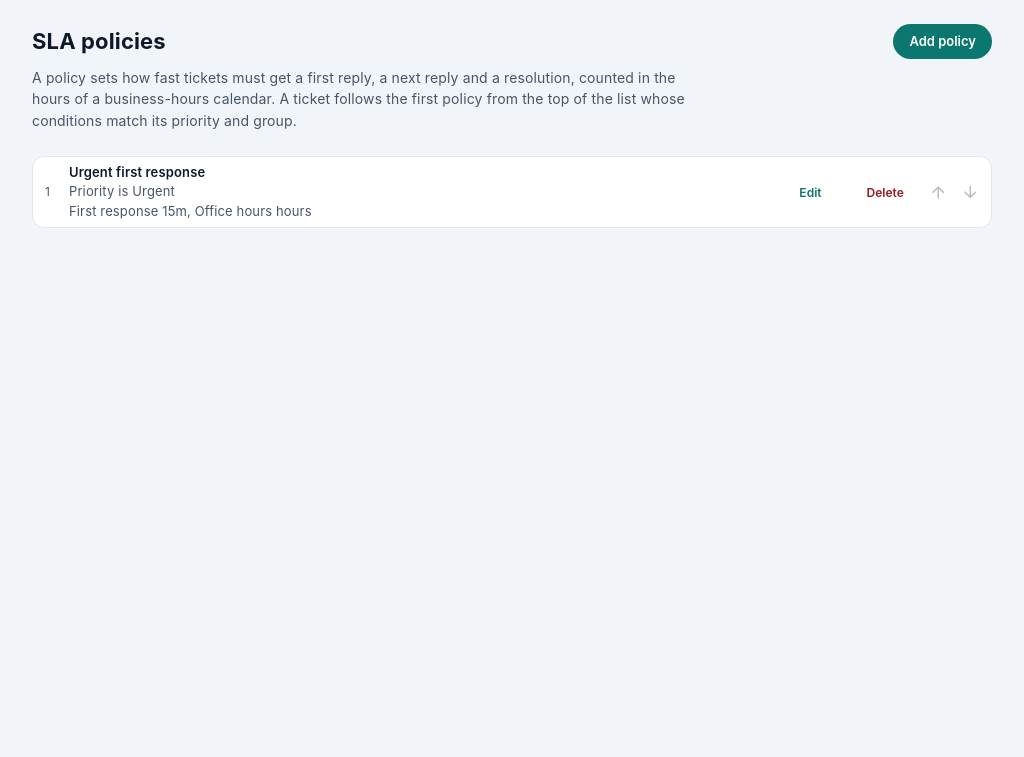
Test: SlaPoliciesPage › shows a non-field error in the drawer
Click the button "Add policy" at (943, 41), box [893,24,992,59]
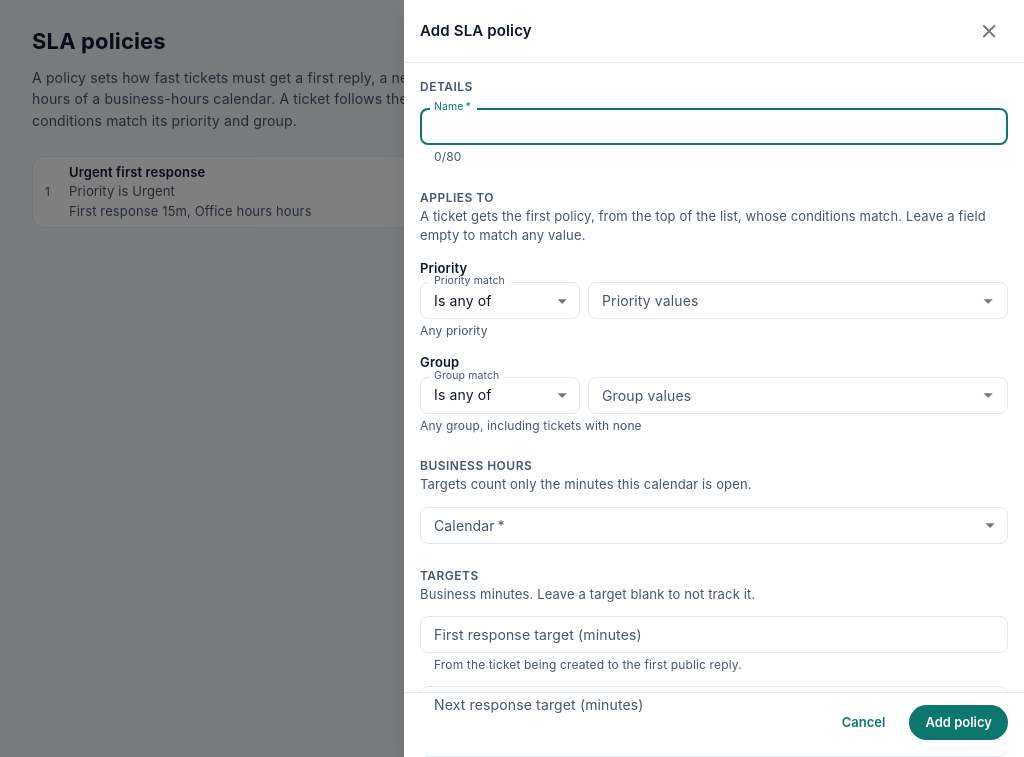
Type "X" into the field labelled "Name *" at (714, 127), box [420,108,1008,145]
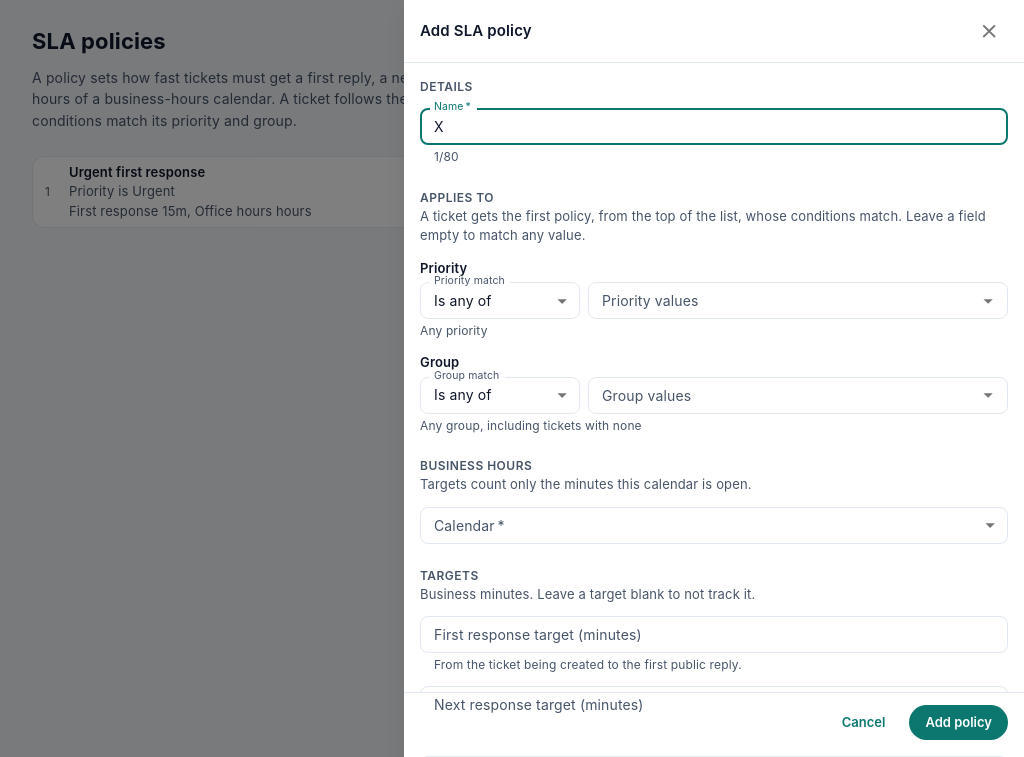
Click the dropdown named "Calendar" at (714, 525), box [420,507,1008,544]
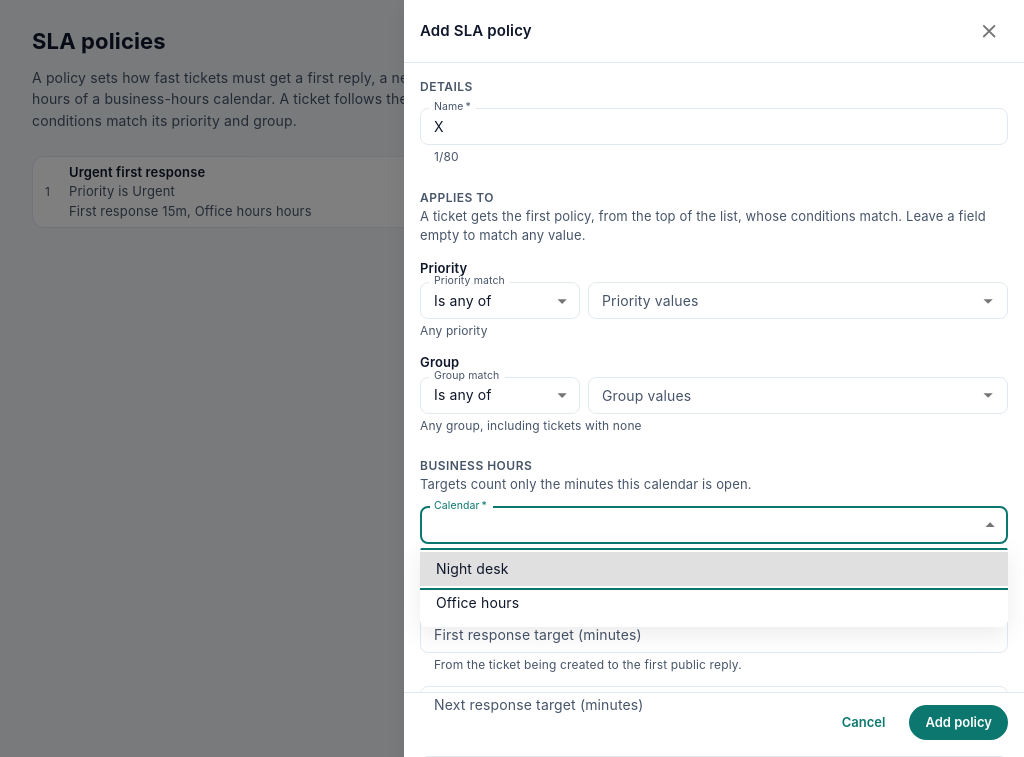
Click the option "Office hours" at (478, 602), box [436,594,519,611]
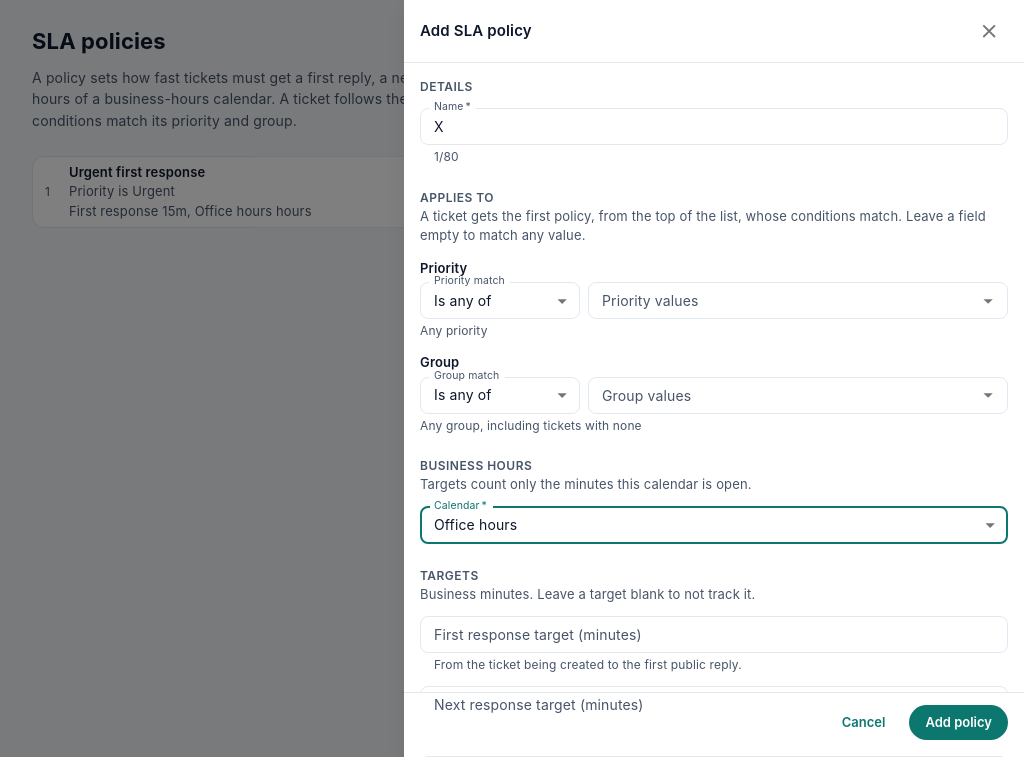
Click the button "Add policy" at (959, 723), box [909,705,1008,740]
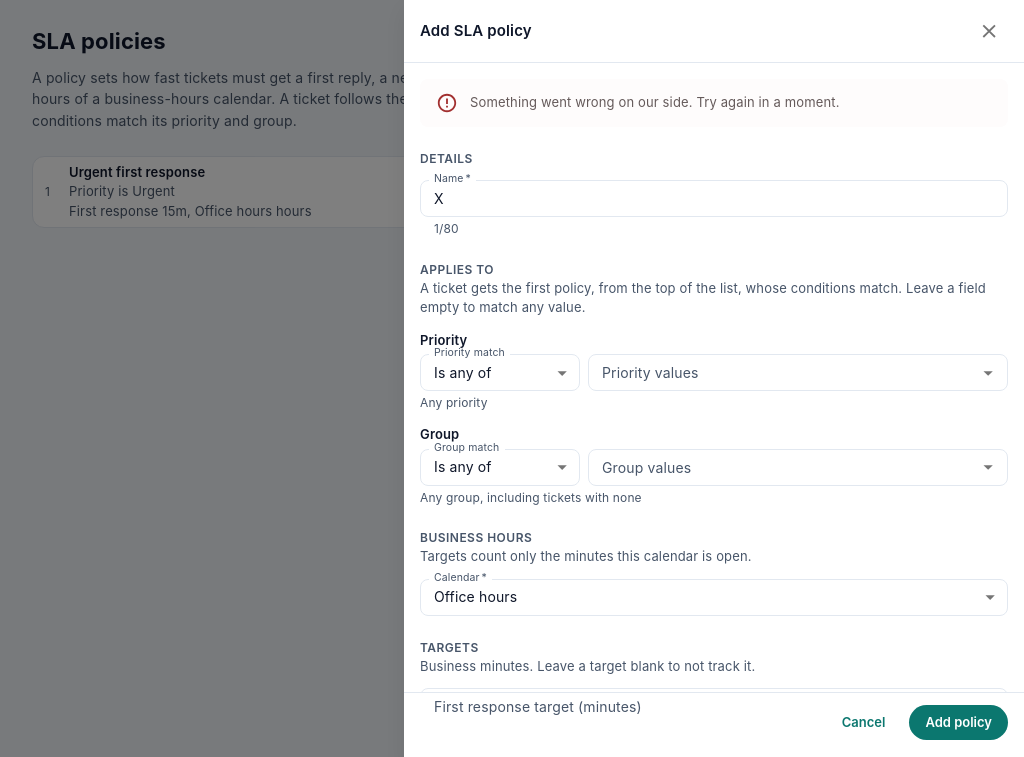
expect the message "Something went wrong on our side. Try again in a moment." is shown: met, box [420,79,1008,127]
